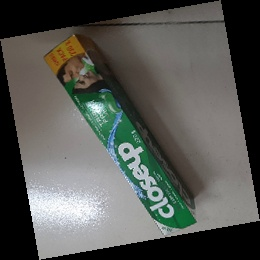CloseUp Xanh: (44, 34, 198, 237)
